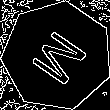M_SE: (23, 23, 91, 89)
